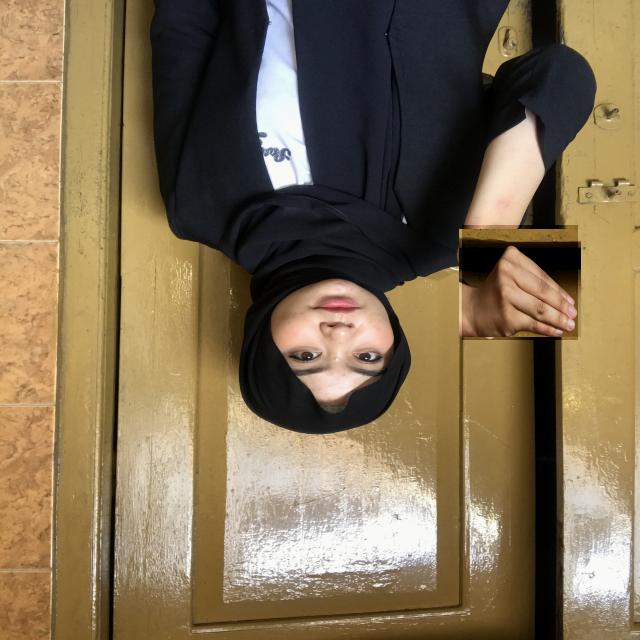berapa: (462, 225, 578, 340)
